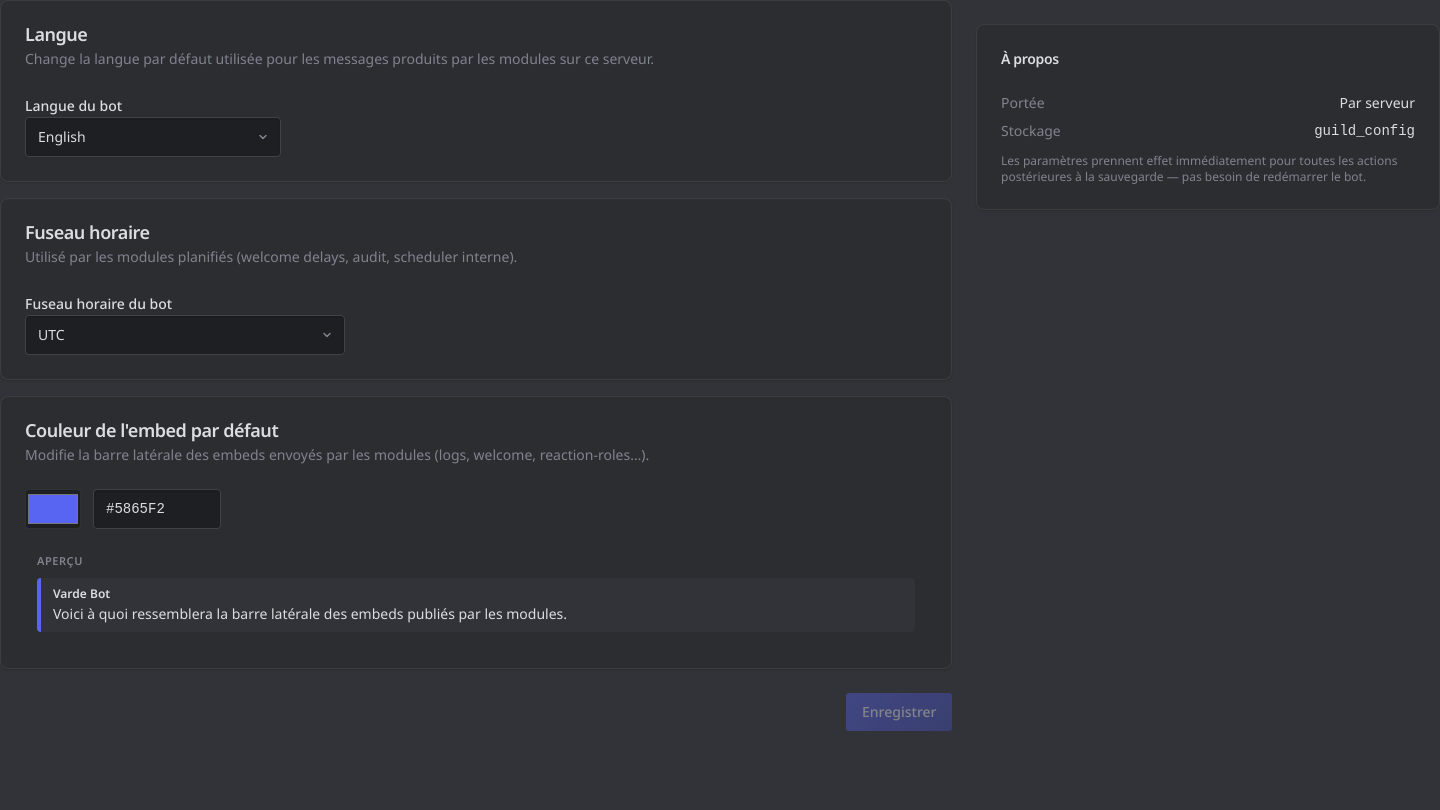
it: BotSettingsForm › refuse une couleur hex invalide
Type "not-a-color" into the field named "Code couleur hex" at coordinates (157, 509), box [93, 489, 221, 529]
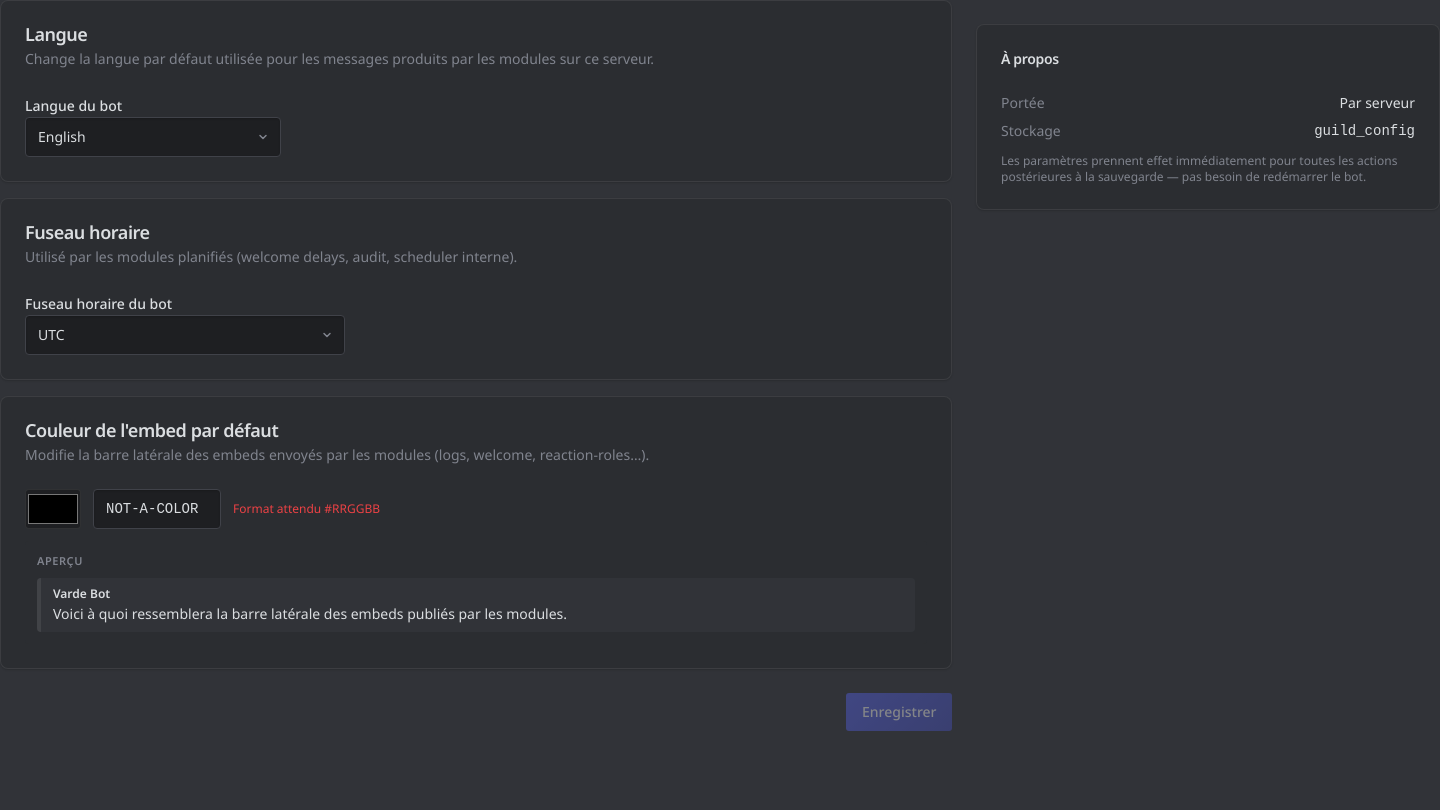
Expected: the button "Enregistrer" is disabled, [846, 692, 952, 730]
Result: the text "Format attendu #RRGGBB" is shown at [233, 501, 380, 517]
